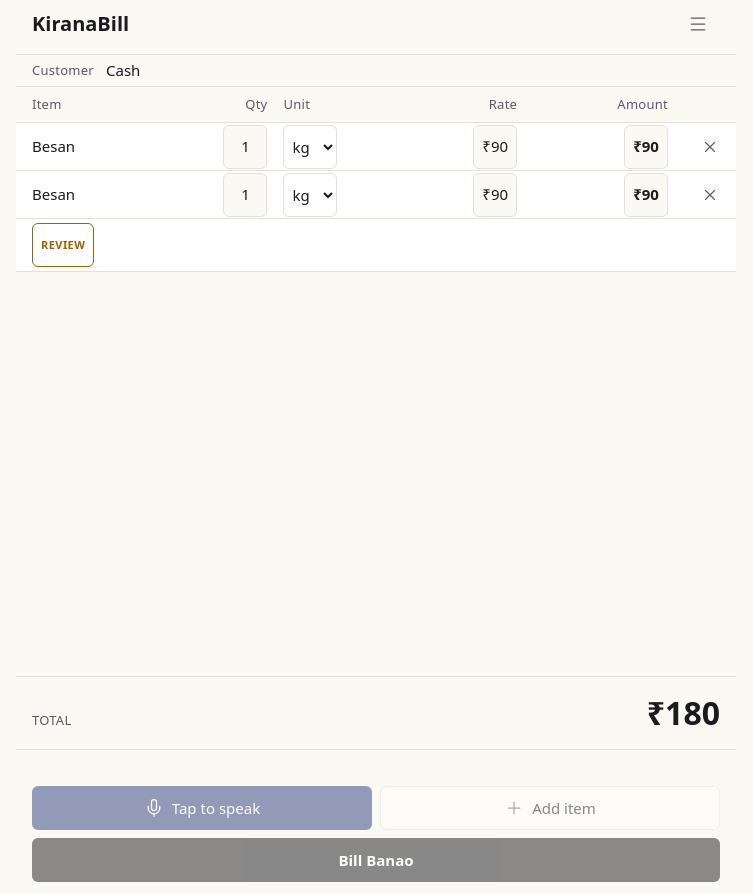
Test: KB-304 - MEDIUM and LOW inform, never block; their sentence on tap › MEDIUM already_on_bill: a REVIEW badge that reveals its reason; no check pending
Check: the text "already on the bill" is not shown
Click the button with aria-label "REVIEW — Besan" at (63, 245), box [32, 223, 94, 267]
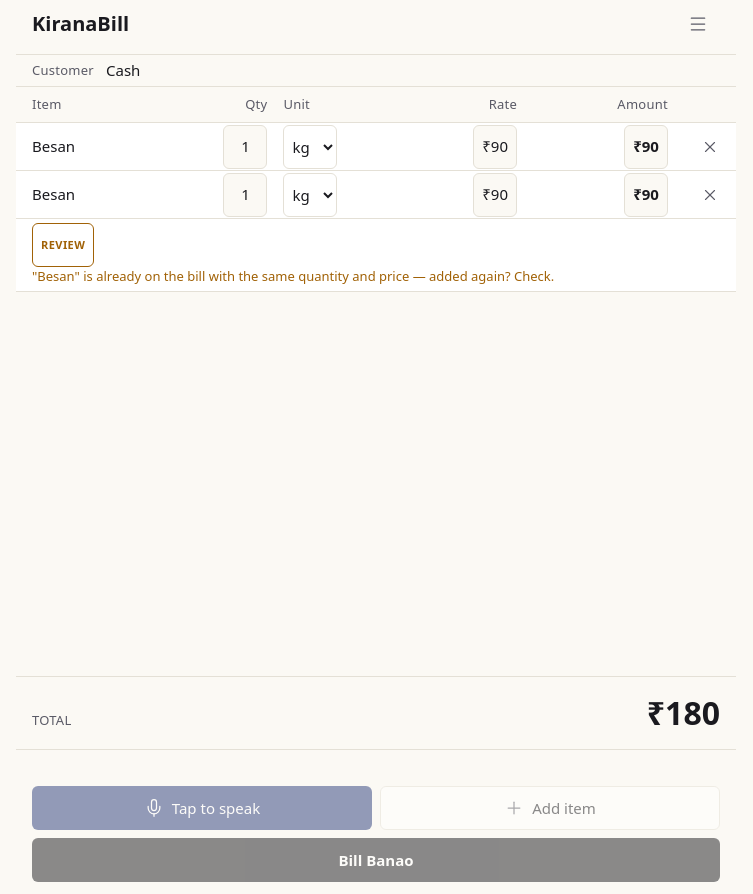
Check: the list item "already on the bill" is shown, box [32, 267, 554, 285]
